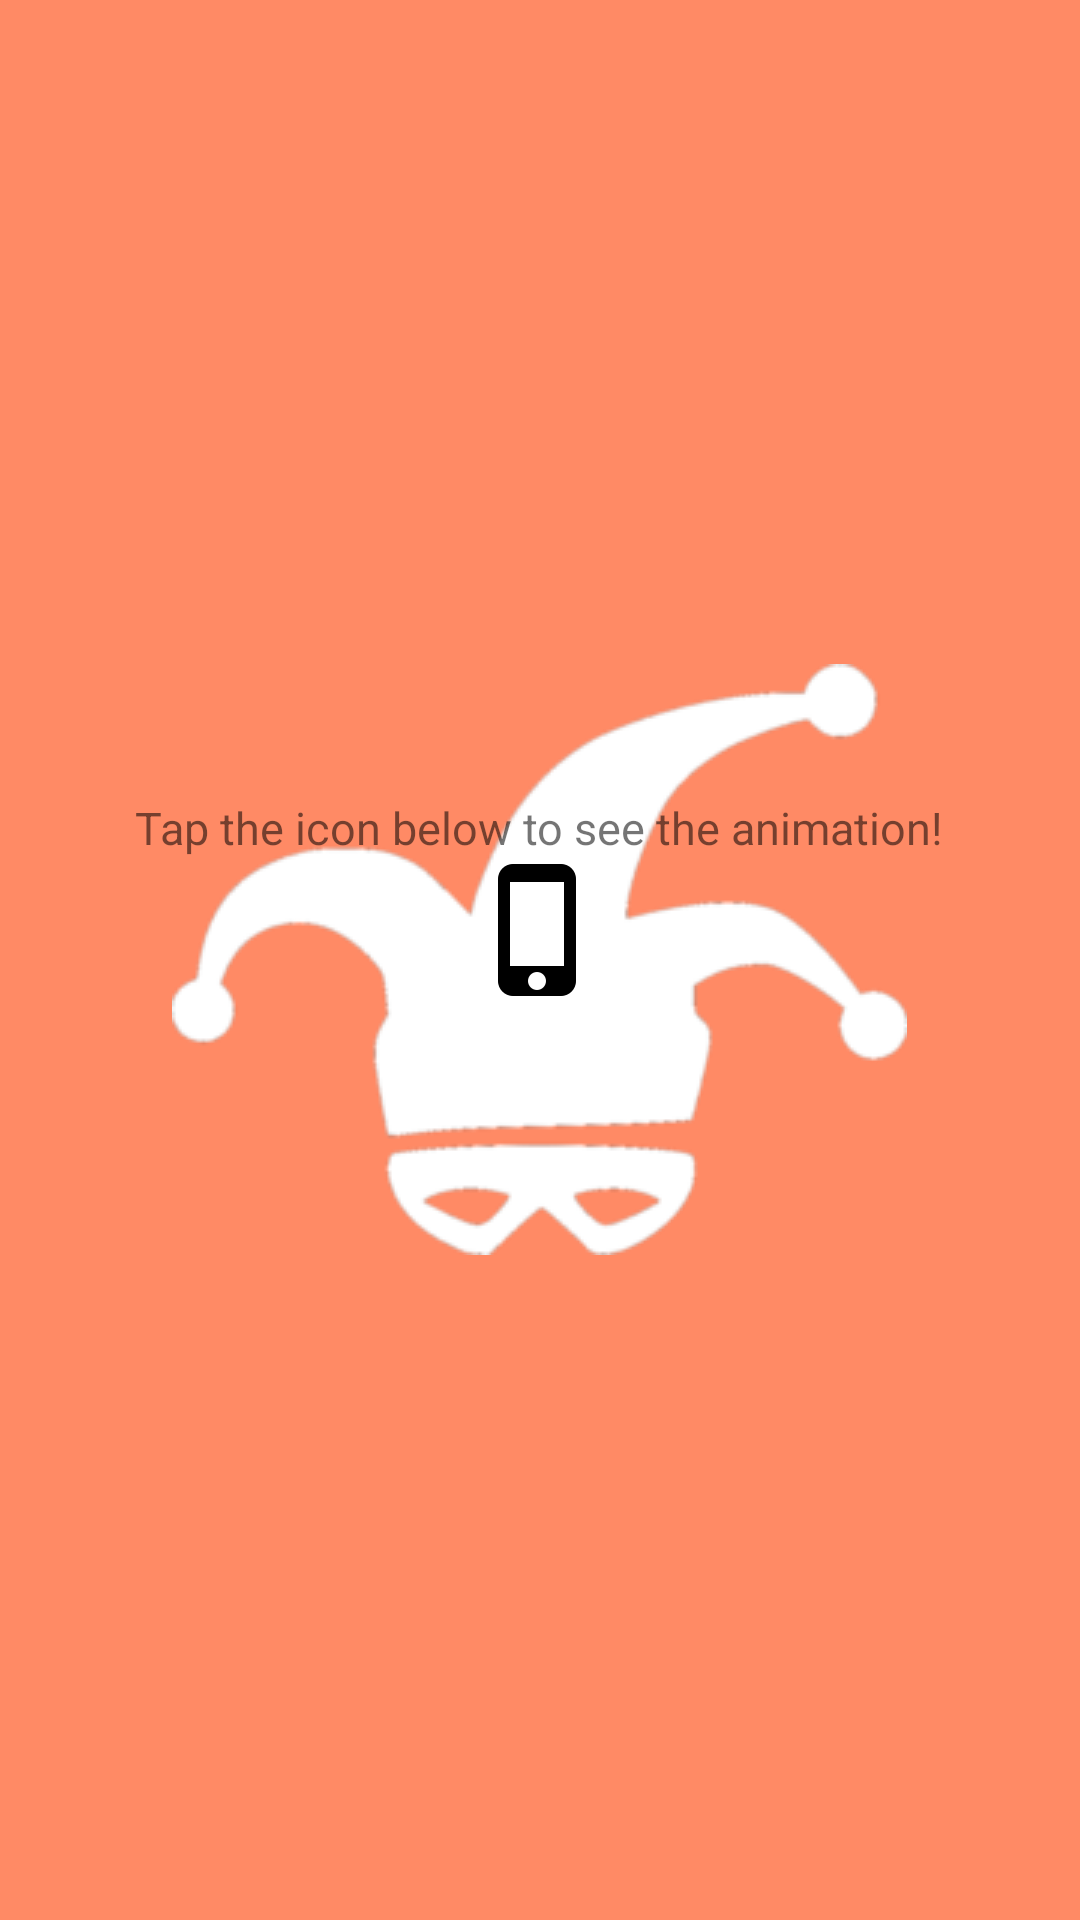

Screen size 1080 × 1920. Icon name, then its box in pixels as (x1, y1, x2, y2):
cellphone iphone: (498, 864, 576, 996)
